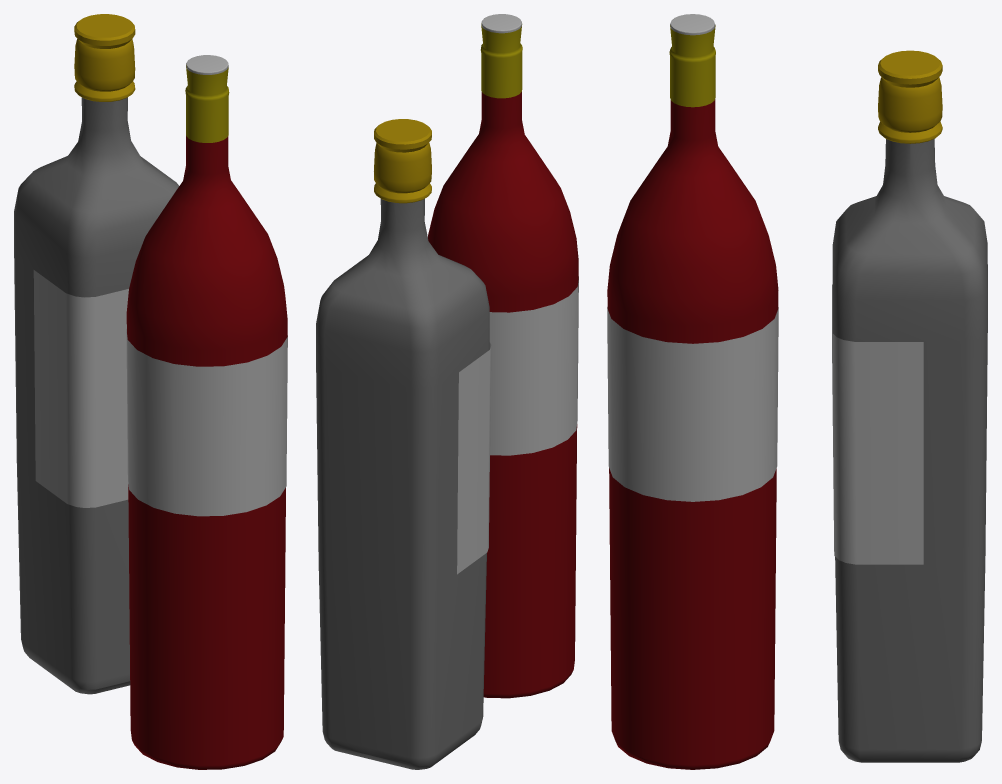
Rendered from Wine_And_Whiskey.fbx.
3 views of the same model, side by side, from view 1: azimuth 30°, elevation 25°; view 2: azimuth 150°, elevation 25°; view 3: azimuth 270°, elevation 25° (orthographic). The views are drawn at different scales.
Visible parts, largest first — view 1: pCylinder4, pCube5, pCylinder7, pCube7, pCylinder1, pCylinder6, pCylinder5; view 2: pCube5, pCylinder4, pCylinder7, pCube7, pCylinder1, pCylinder6, pCylinder5; view 3: pCylinder4, pCube5, pCylinder7, pCube7, pCylinder1, pCylinder6, pCylinder5.
Part boxes in pixels (<box>): pCylinder4: <box>126,136,287,769</box>; pCube5: <box>14,97,178,694</box>; pCylinder7: <box>126,329,287,516</box>; pCube7: <box>33,270,128,507</box>; pCylinder1: <box>74,14,135,101</box>; pCylinder6: <box>185,65,229,142</box>; pCylinder5: <box>186,55,228,74</box>; pCube5: <box>316,199,489,769</box>; pCylinder4: <box>428,92,578,698</box>; pCylinder7: <box>489,276,578,455</box>; pCube7: <box>457,342,491,574</box>; pCylinder1: <box>374,119,431,203</box>; pCylinder6: <box>480,23,522,98</box>; pCylinder5: <box>481,14,521,33</box>; pCylinder4: <box>607,99,778,769</box>; pCube5: <box>832,139,987,762</box>; pCylinder7: <box>607,307,778,501</box>; pCube7: <box>832,284,923,564</box>; pCylinder1: <box>878,50,942,143</box>; pCylinder6: <box>669,25,715,107</box>; pCylinder5: <box>670,14,715,35</box>.
Size of the model in its own units: 21.59 by 99.28 by 47.88.
